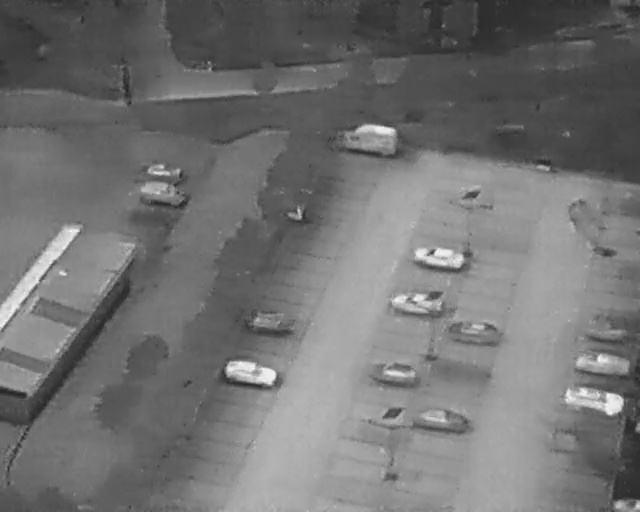Car: (334, 120, 399, 158), (561, 383, 624, 417), (222, 355, 279, 388), (410, 241, 465, 273), (135, 177, 189, 209), (444, 318, 501, 346), (572, 348, 629, 376), (390, 287, 443, 316), (367, 358, 420, 387), (415, 405, 468, 434)
